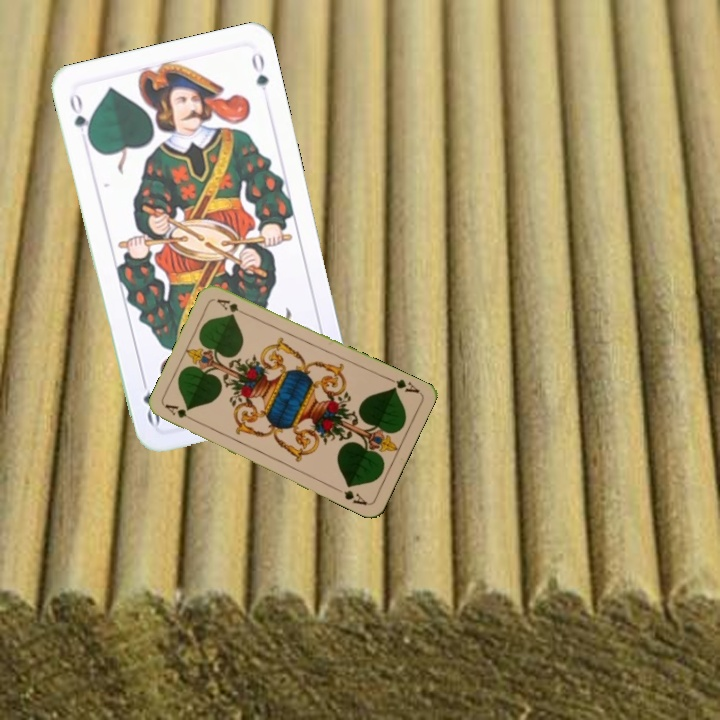GA: (162, 400, 200, 425), (383, 373, 422, 396)
GO: (65, 88, 94, 146)
